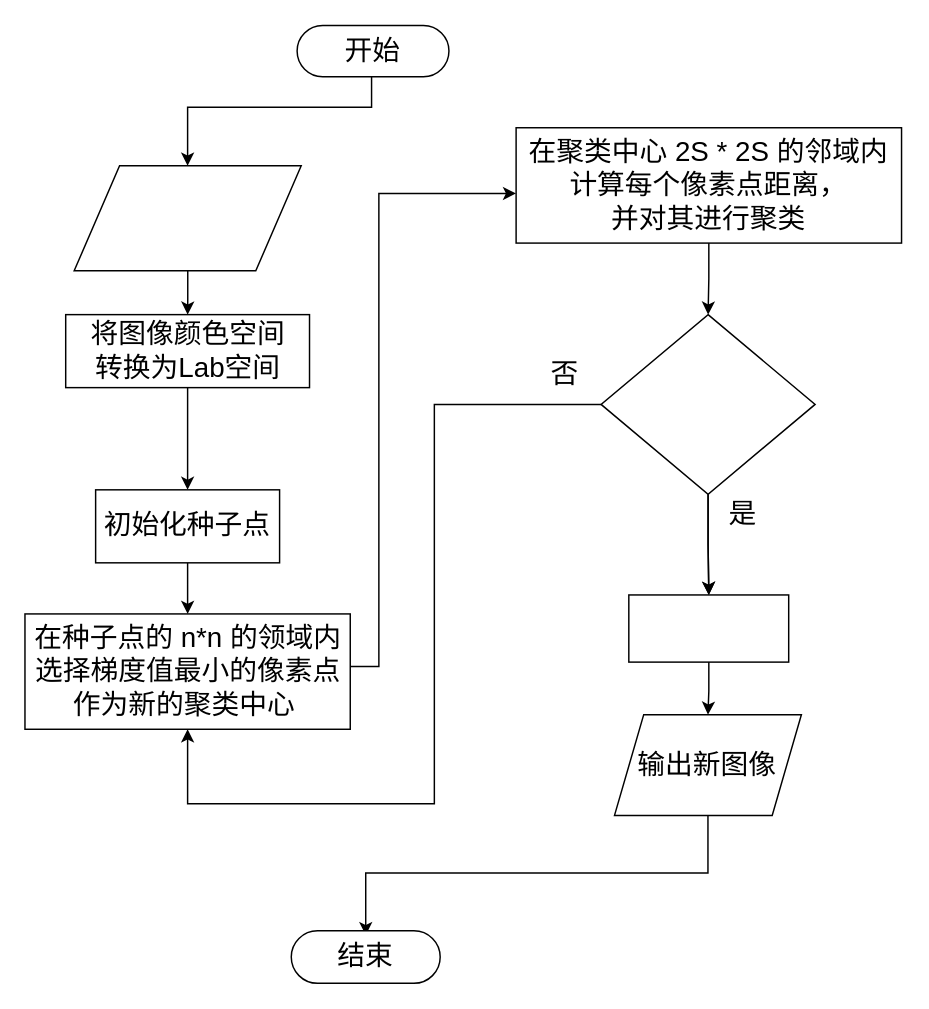
The diagram is 929 pixels wide and 1009 high, and some of its shapes have lost their labels. Here are the shapes that lost their labels. From the top down, the box of each, then its label:
(73, 164, 301, 271): 输入原始图像
(600, 313, 815, 494): 迭代是否结束
(627, 593, 789, 662): 检查联通性
